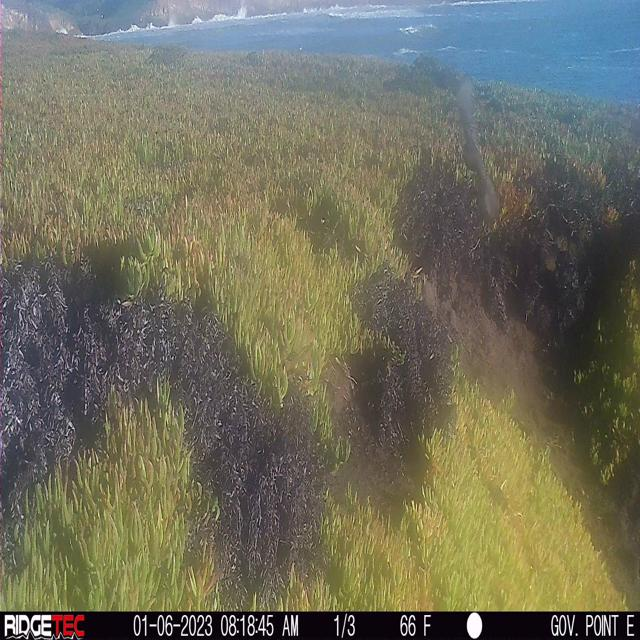bird: (443, 73, 503, 226)
